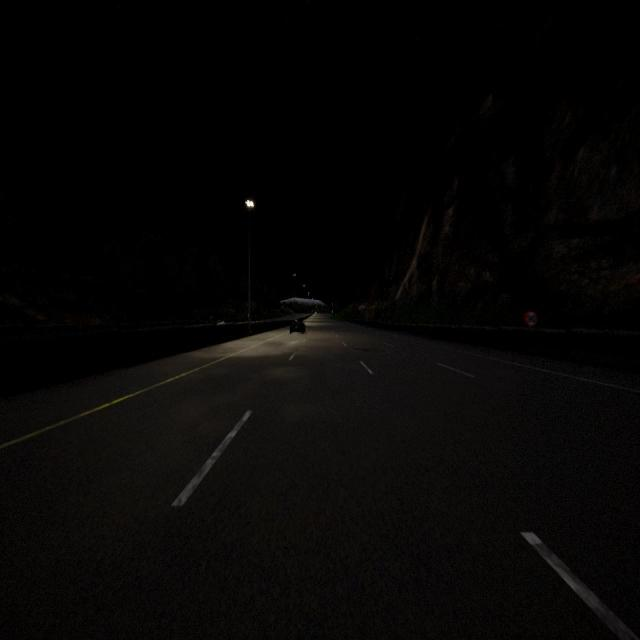Traffic_Signs: (522, 311, 537, 328)
Vehicle: (289, 320, 306, 334)
